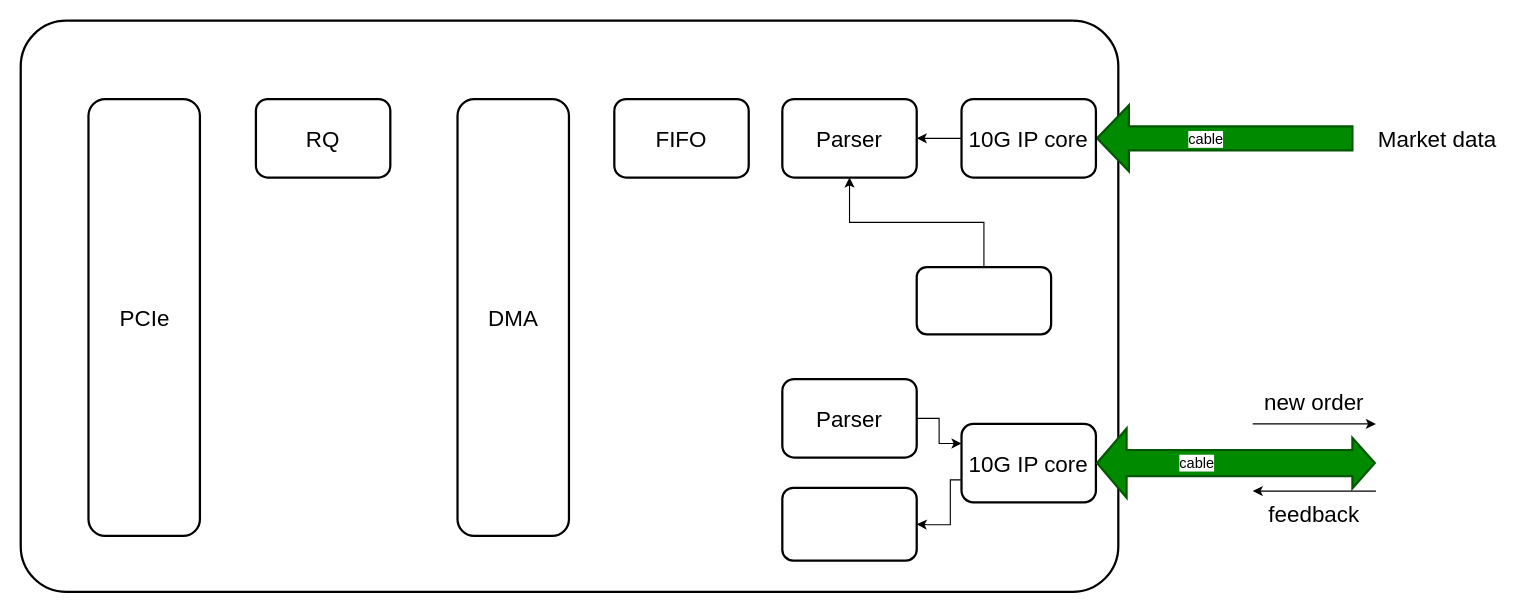
Image size: 1518x612. Some labels were removed from this diagram. The box of each missing label's shape, as (x1, y1, x2, y2) in pixels:
Formatter: (781, 486, 917, 561)
PTP: (915, 265, 1052, 335)
